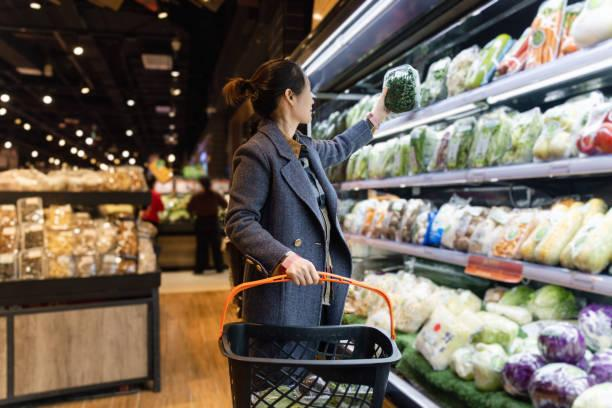Person: (223, 59, 387, 325)
article: (528, 363, 591, 407), (526, 0, 565, 69), (383, 64, 420, 112), (19, 247, 47, 277)
cage: (218, 272, 399, 407)
